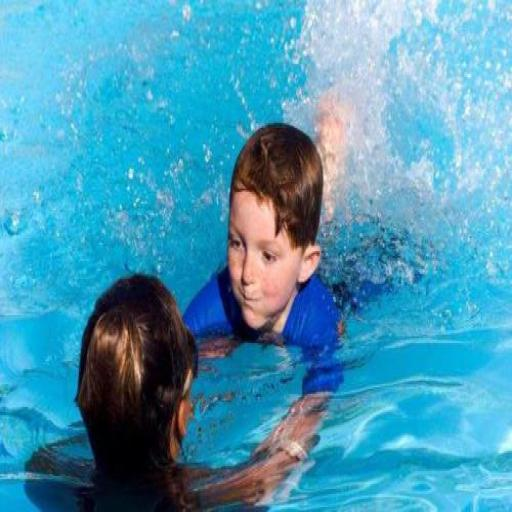swimming: (22, 271, 328, 510), (179, 120, 347, 397)
